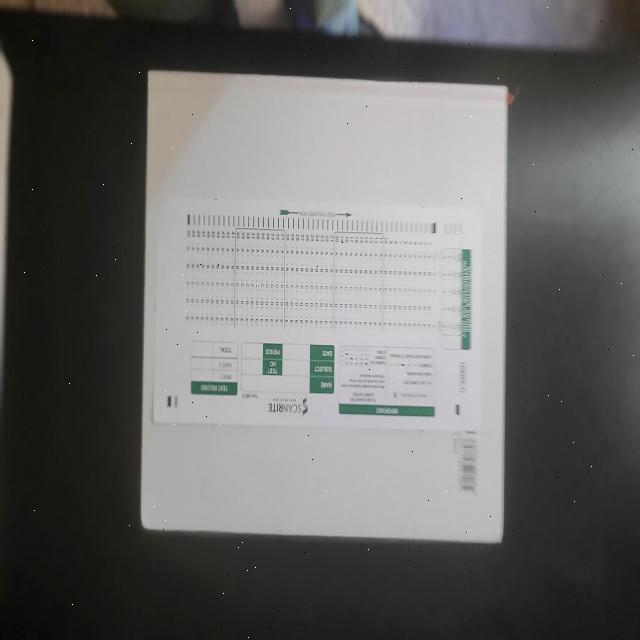scantron: (153, 195, 482, 433)
